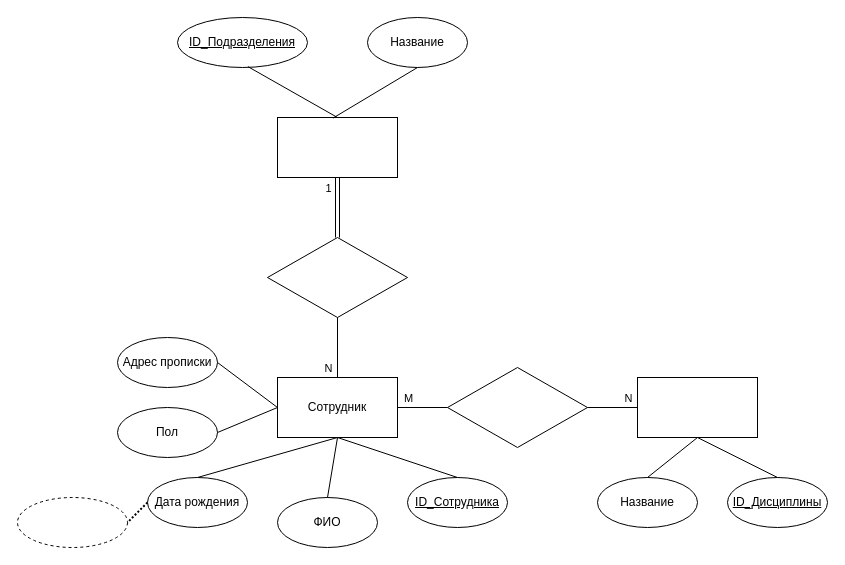
Image size: 845x565. Some labels were removed from this diagram. The box of each missing label's shape, as (x1, y1, x2, y2) in pixels:
Возраст: (16, 496, 128, 548)
Дисциплина: (636, 376, 758, 438)
Подразделение: (276, 116, 398, 178)
Преподаёт: (446, 366, 588, 448)
Содержит: (266, 236, 408, 318)
